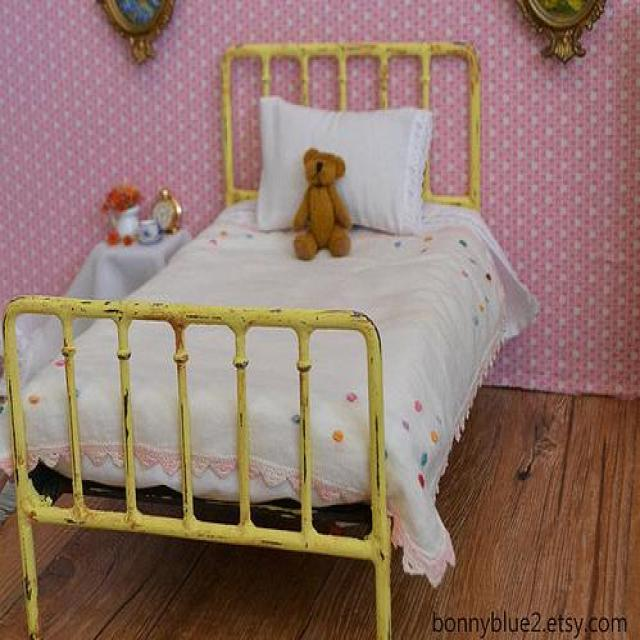bed: (3, 35, 489, 640)
